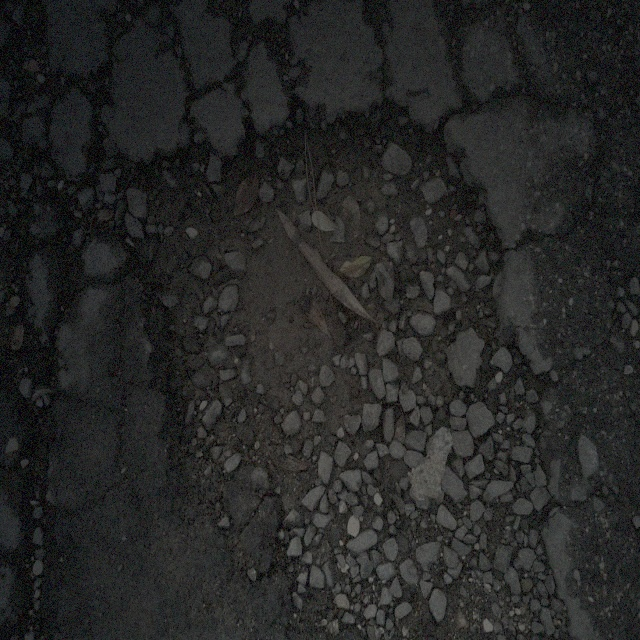pothole: (142, 88, 514, 530)
